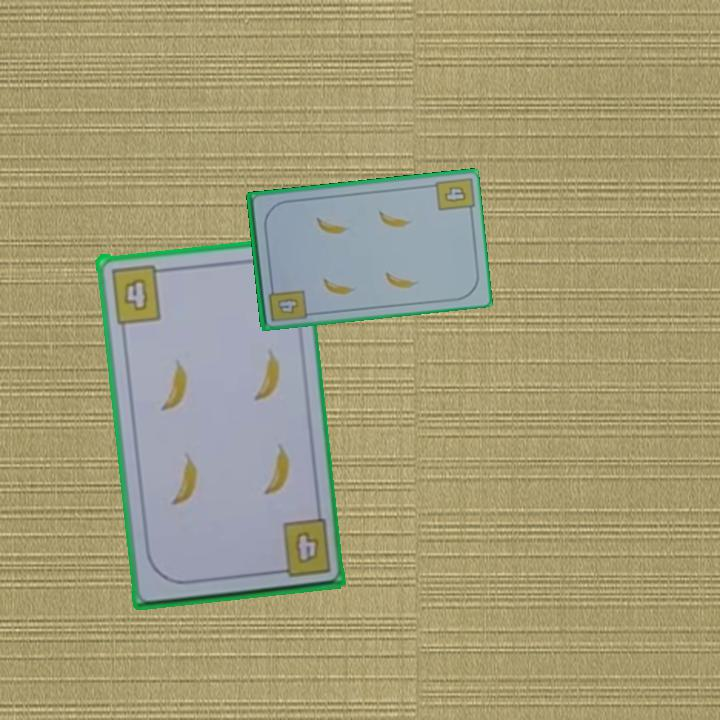4b: (107, 260, 170, 326), (264, 280, 309, 324), (291, 527, 321, 567), (441, 182, 469, 205)
